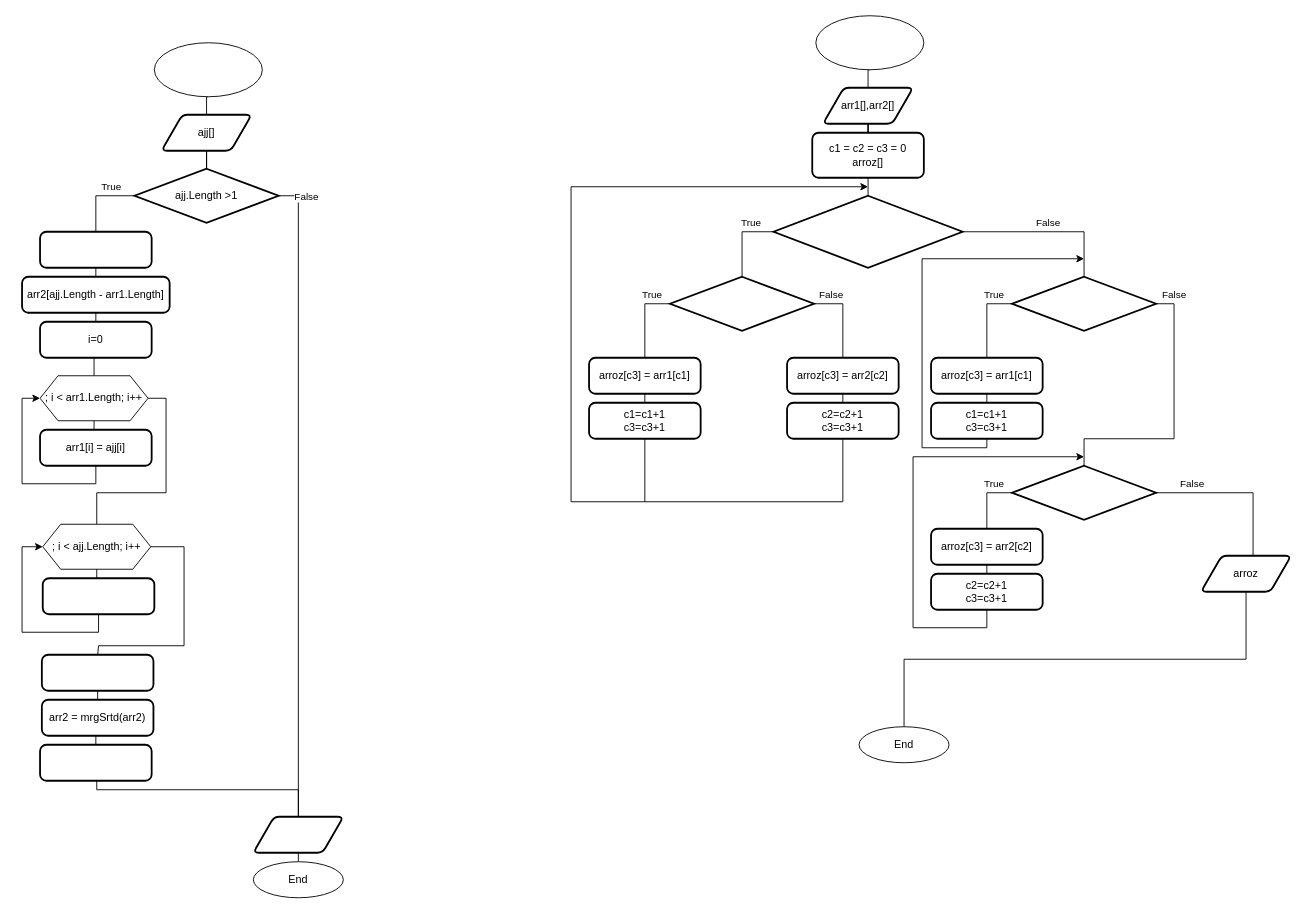
Some shapes in this 1308 by 914 pixel diagram are drawn without their labels. Each missing label, with the centre of its shape:
"(c1 != arr1.Length) and (c2 != arr2.Length)" belongs at point (867, 231).
"ajj" belongs at point (298, 834).
"ajj = outMerge(arr1, arr2)" belongs at point (95, 762).
"arr1 = mrgSrtd(arr1)" belongs at point (97, 672).
"arr1[ajj.Length / 2]" belongs at point (95, 249).
"arr1[c1] > arr2[c2]" belongs at point (741, 303).
"arr2[i - arr1.Length] = ajj[i]" belongs at point (98, 596).
"c1 != arr1.Length" belongs at point (1083, 303).
"c2 != arr1.Length" belongs at point (1083, 492).
"Start mrgSrtd" belongs at point (207, 69).
"Start outMerge" belongs at point (869, 42).
